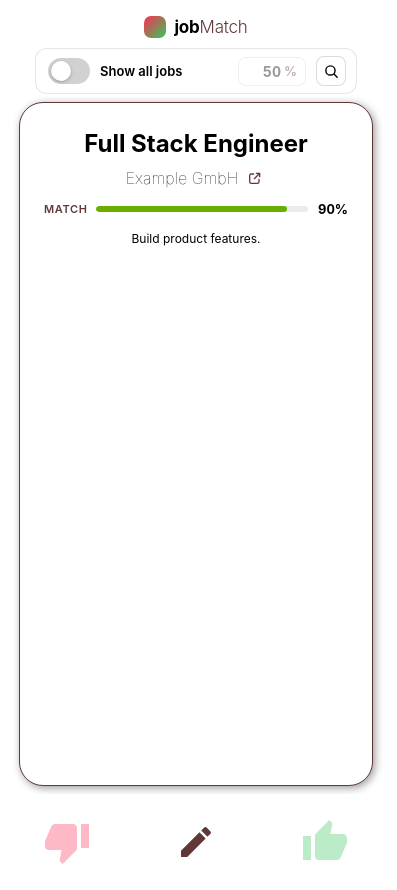
Test: MatchPage › shows the filter empty label when no job meets the threshold
Click the switch named "Only show jobs at or above the minimum match". click: (69, 71)
box: [48,58,90,84]
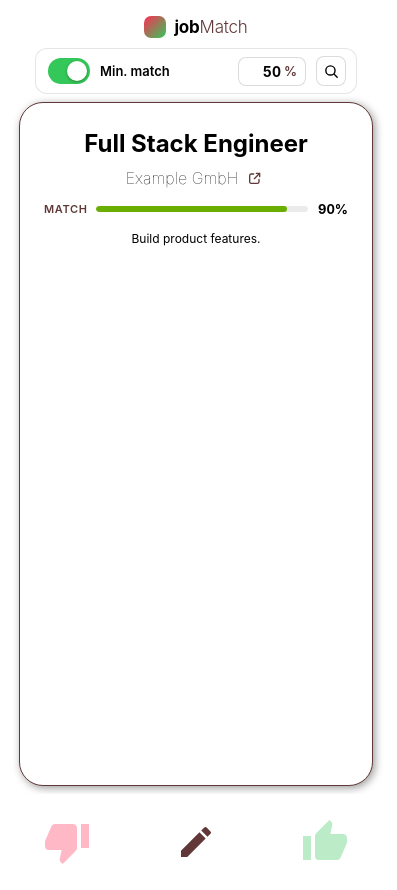
Replace the text in the number field named "Minimum match percentage" with "95". click: (265, 71)
box: [247,62,283,80]
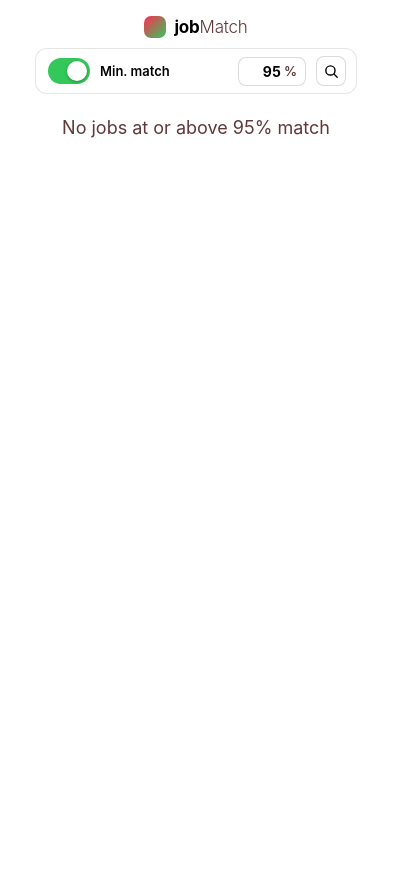
Check: the text with class "job-card-stack__empty" reads "No jobs at or above 95% match", box [62,117,330,138]
